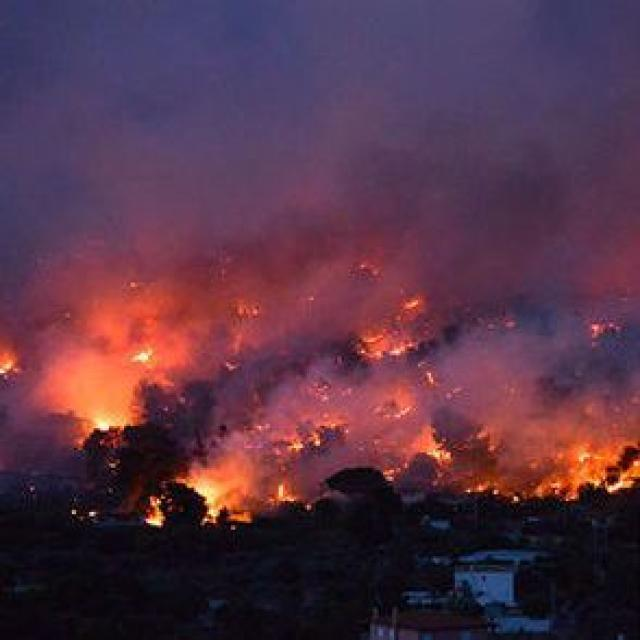Fire: (38, 314, 640, 521)
Smoke: (0, 0, 621, 327)
